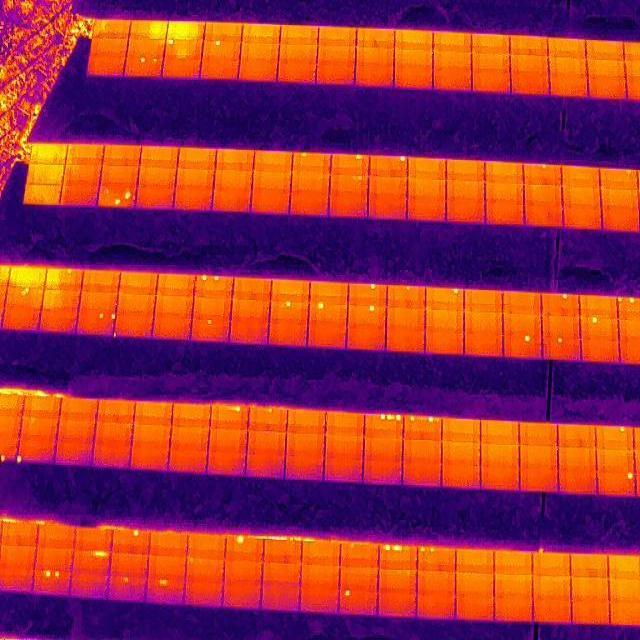Cell: (596, 472, 636, 498), (340, 589, 378, 616), (542, 336, 581, 362), (340, 542, 379, 568), (532, 550, 571, 576), (247, 407, 287, 432), (147, 579, 185, 605), (109, 576, 146, 602), (386, 285, 426, 309), (369, 155, 408, 179), (426, 285, 465, 309), (542, 294, 581, 318), (271, 301, 310, 325), (191, 318, 230, 342), (595, 426, 634, 450), (580, 316, 618, 340), (210, 406, 248, 430), (309, 301, 348, 324), (112, 530, 149, 554), (347, 305, 387, 327), (502, 335, 542, 357), (293, 153, 332, 175), (348, 284, 387, 306), (115, 314, 154, 336), (599, 169, 639, 190), (18, 440, 56, 462), (331, 155, 370, 176), (523, 164, 562, 185), (202, 40, 242, 60), (225, 539, 263, 560), (164, 38, 203, 58), (46, 269, 83, 290)
Cell-Multi: (403, 416, 442, 442), (418, 546, 457, 572), (379, 545, 417, 570), (195, 275, 234, 299), (365, 415, 404, 439), (33, 571, 72, 595), (78, 310, 114, 334), (330, 176, 369, 198), (5, 288, 43, 310), (97, 188, 136, 208), (194, 298, 233, 318), (124, 58, 163, 78)
No-Anomaly: (150, 528, 187, 558), (229, 320, 270, 346), (187, 531, 225, 559), (533, 598, 573, 624), (185, 558, 224, 584), (456, 596, 495, 622), (403, 439, 441, 465), (152, 315, 193, 339), (308, 324, 349, 348), (206, 452, 247, 476), (377, 592, 418, 616), (519, 423, 558, 448), (286, 433, 325, 458), (325, 435, 364, 460), (364, 438, 403, 463), (494, 550, 533, 575), (425, 308, 465, 332), (347, 326, 387, 350), (464, 335, 504, 359), (580, 338, 620, 362), (569, 554, 609, 578), (300, 588, 340, 612), (134, 403, 172, 428), (557, 423, 595, 448), (233, 278, 272, 302), (503, 291, 542, 315), (464, 311, 503, 335), (386, 330, 425, 354), (171, 405, 210, 429), (480, 421, 519, 445), (247, 431, 286, 455), (558, 448, 597, 472), (245, 456, 284, 480), (285, 458, 324, 482), (0, 546, 36, 572), (456, 550, 495, 574), (456, 572, 495, 596), (533, 576, 572, 600), (185, 582, 224, 606), (224, 584, 263, 608), (417, 594, 456, 618), (571, 601, 610, 625), (324, 461, 364, 484), (417, 571, 457, 594), (40, 308, 78, 332), (443, 421, 481, 445), (481, 446, 519, 470), (519, 448, 557, 472), (559, 471, 597, 495), (110, 554, 148, 578), (148, 558, 186, 582), (302, 565, 340, 589), (71, 575, 109, 599), (263, 584, 301, 608), (268, 324, 309, 346), (215, 150, 255, 172), (62, 166, 102, 188), (173, 190, 213, 212), (368, 199, 408, 221), (425, 333, 465, 355), (170, 428, 210, 450), (208, 430, 248, 452), (54, 444, 94, 466), (168, 450, 208, 472), (596, 450, 636, 472), (363, 464, 403, 486), (120, 271, 158, 294), (38, 526, 76, 549), (0, 570, 36, 594), (102, 146, 141, 168), (64, 146, 103, 168), (253, 152, 292, 174), (291, 174, 330, 196), (407, 180, 446, 202), (446, 182, 485, 204), (251, 193, 290, 215), (290, 196, 329, 218), (329, 198, 368, 220), (407, 202, 446, 224), (157, 274, 196, 296), (579, 294, 618, 316), (22, 398, 61, 420), (58, 399, 97, 421), (325, 413, 364, 435), (92, 445, 131, 467), (263, 562, 302, 584), (378, 569, 417, 591), (494, 576, 533, 598), (571, 579, 610, 601), (495, 598, 534, 620), (278, 62, 317, 84), (155, 295, 195, 316), (387, 309, 427, 330), (96, 402, 136, 423), (56, 422, 96, 443), (441, 445, 481, 466), (129, 449, 169, 470), (481, 470, 521, 491), (485, 163, 523, 185), (524, 186, 562, 208), (524, 206, 562, 228), (602, 209, 640, 231), (302, 543, 340, 565), (36, 548, 74, 570), (230, 300, 271, 320), (177, 149, 216, 170), (26, 164, 65, 185), (136, 189, 175, 210), (92, 19, 131, 40), (271, 280, 310, 301), (464, 290, 503, 311), (503, 315, 542, 336), (403, 465, 442, 486), (408, 159, 445, 181), (9, 266, 46, 288), (0, 524, 37, 546), (100, 168, 140, 188), (214, 172, 254, 192), (251, 174, 291, 194), (212, 192, 252, 212), (562, 208, 602, 228), (132, 428, 172, 448), (239, 61, 279, 81), (472, 72, 512, 92), (588, 78, 628, 98), (485, 185, 523, 206), (30, 145, 69, 165), (140, 148, 179, 168), (446, 161, 485, 181), (138, 168, 177, 188), (175, 169, 214, 189), (369, 178, 408, 198), (446, 204, 485, 224), (485, 206, 524, 226), (310, 281, 349, 301), (117, 292, 156, 312), (242, 24, 281, 44), (357, 28, 396, 48), (433, 32, 472, 52), (94, 424, 133, 444), (548, 38, 587, 58), (441, 468, 480, 488), (520, 472, 559, 492), (586, 42, 625, 62), (241, 42, 280, 62), (224, 562, 263, 582), (433, 52, 472, 72), (162, 58, 201, 78), (201, 59, 240, 79), (317, 62, 356, 82), (433, 70, 472, 90), (561, 168, 599, 188), (562, 189, 600, 209), (81, 272, 119, 292), (204, 22, 242, 42), (2, 310, 40, 330), (287, 412, 325, 432), (20, 420, 58, 440), (75, 529, 113, 549), (264, 542, 302, 562), (395, 48, 433, 68), (340, 568, 378, 588), (512, 72, 550, 92), (549, 75, 589, 94), (60, 186, 99, 205), (600, 190, 639, 209), (542, 318, 581, 337), (280, 26, 319, 45), (318, 26, 357, 45), (394, 30, 433, 49), (394, 66, 433, 85), (24, 185, 61, 205), (43, 290, 81, 309), (129, 21, 167, 40), (472, 35, 510, 54), (88, 56, 126, 75), (587, 60, 627, 78), (79, 291, 116, 310), (510, 38, 549, 56), (317, 45, 356, 63), (355, 64, 394, 82), (279, 45, 317, 63), (511, 56, 549, 74), (127, 39, 166, 56), (472, 54, 511, 71), (548, 59, 588, 75), (166, 22, 204, 38), (90, 40, 128, 56), (356, 46, 394, 62)
Unclassified: (73, 550, 110, 575)
